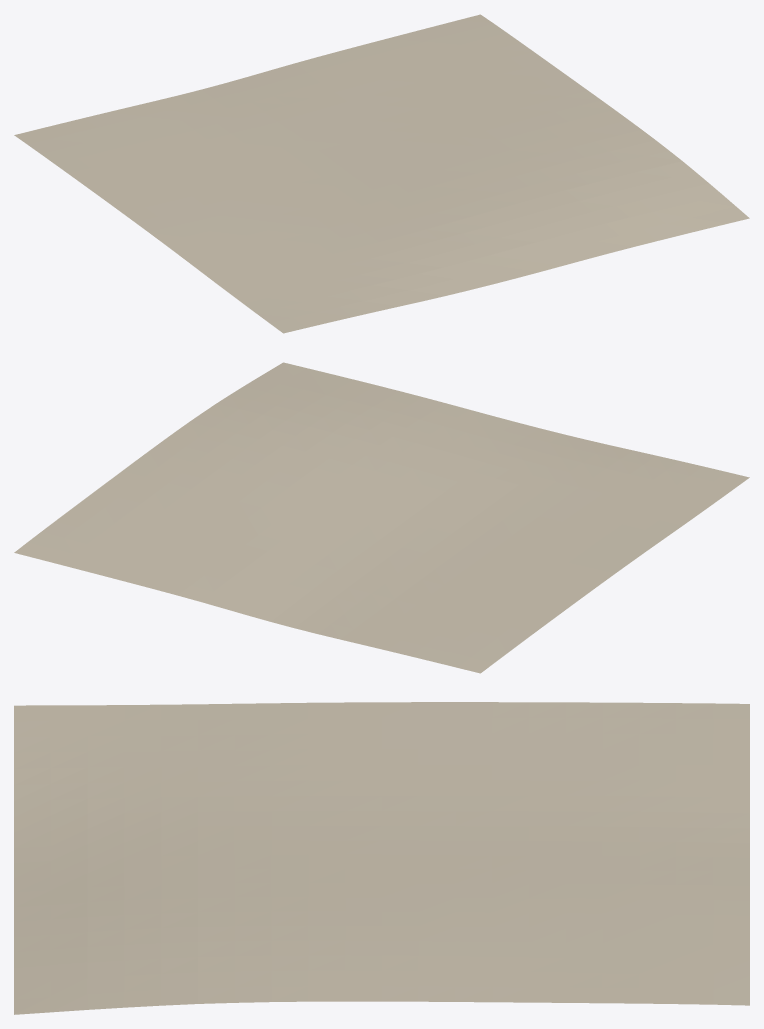
Rendered from bolak_-7_13.glb.
3 renders of one model, top to bottom at view 1: azimuth 30°, elevation 25°; view 2: azimuth 150°, elevation 25°; view 3: azimuth 270°, elevation 25°, orthographic. The views are drawn at different scales.
Visible parts, largest first — view 1: Yer_Tuproq-col; view 2: Yer_Tuproq-col; view 3: Yer_Tuproq-col.
Part boxes in pixels (x1,y1,x2,y2): Yer_Tuproq-col: (14, 14, 749, 333); Yer_Tuproq-col: (14, 362, 749, 673); Yer_Tuproq-col: (14, 702, 749, 1014).
Size of the model in its own units: 400 by 10.8 by 400.
